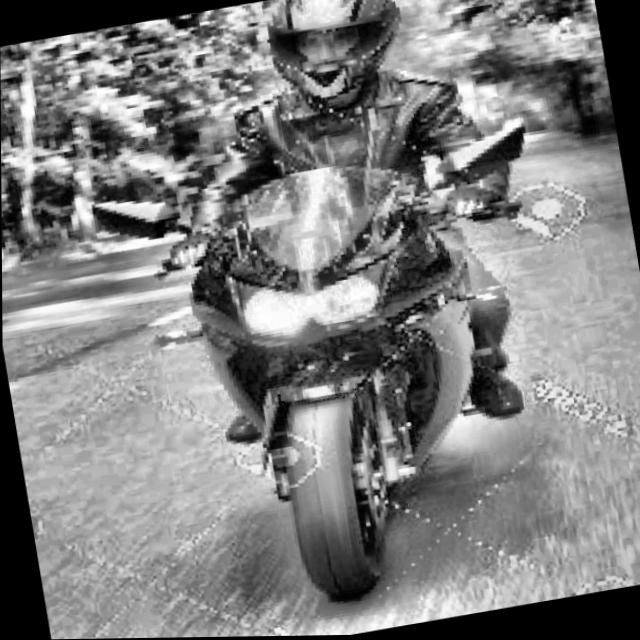motorcycle: (70, 94, 625, 639)
